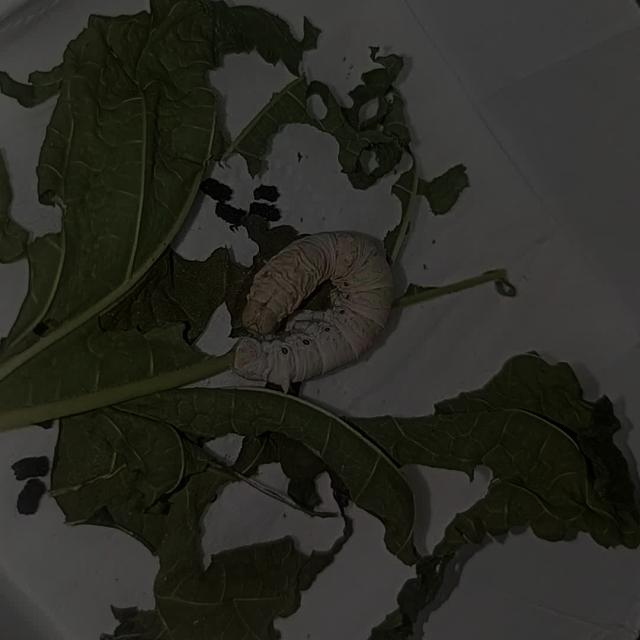Healthy: (215, 202, 435, 405)
